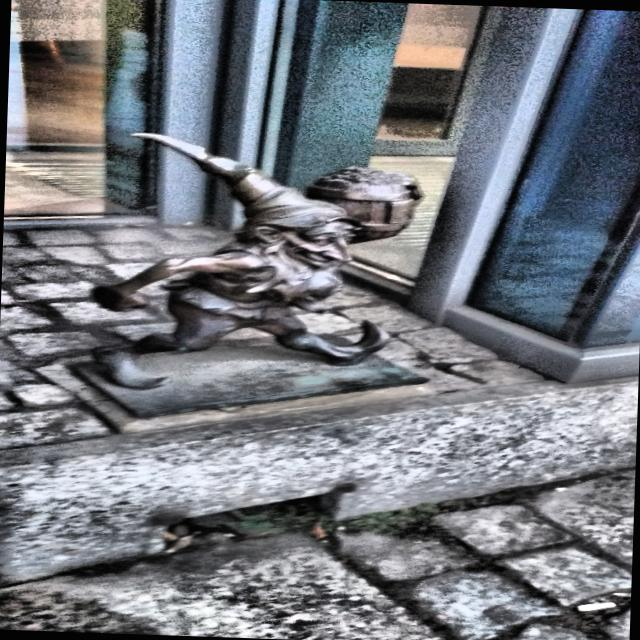Leprykonus: (70, 126, 448, 407)
